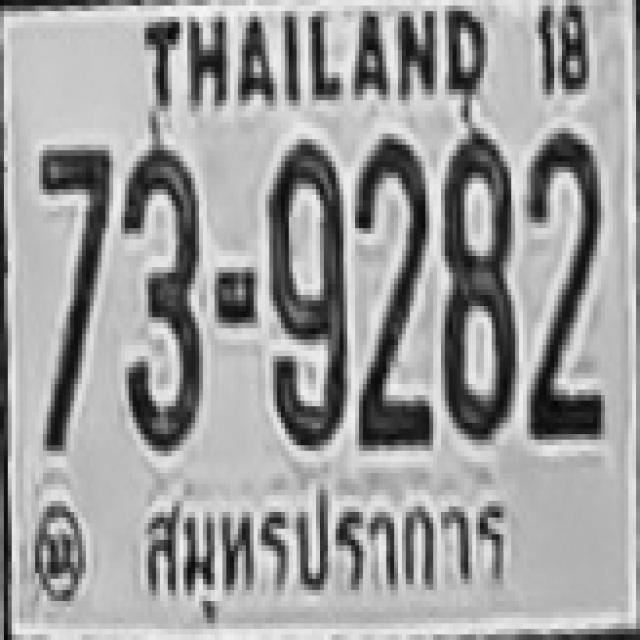0: (266, 133, 344, 440)
2: (525, 128, 599, 412), (353, 133, 427, 412), (523, 128, 597, 390)
3: (121, 139, 199, 445)
7: (37, 144, 111, 440)
8: (441, 128, 511, 434)
9: (266, 136, 344, 442)
SamutPrakan: (133, 485, 510, 618)
